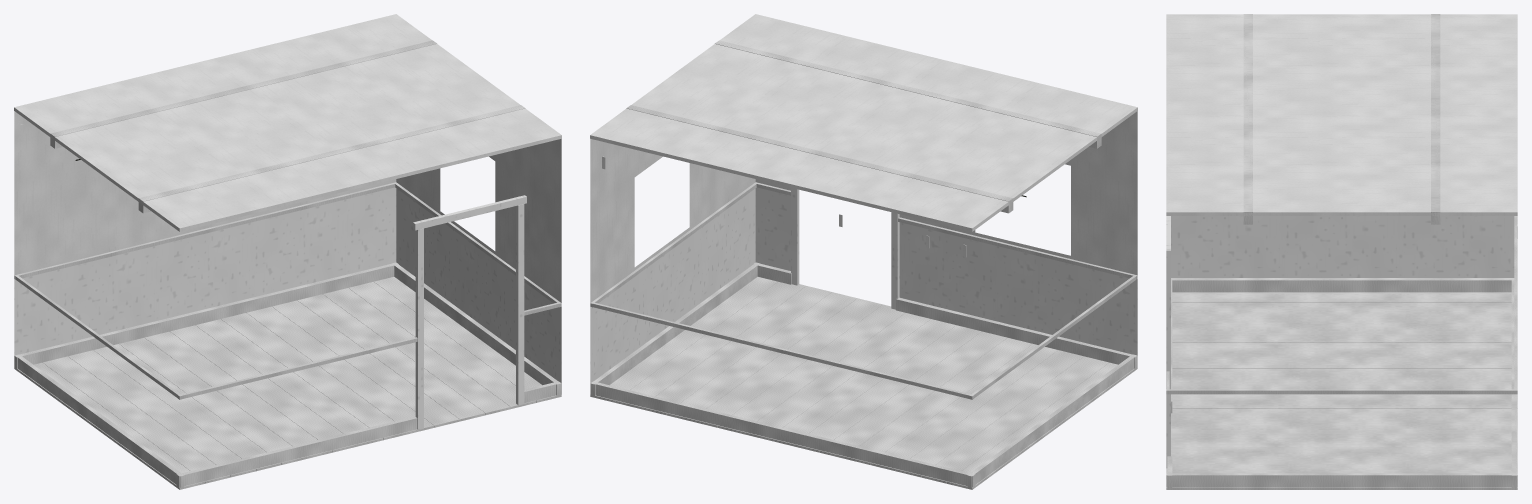
File: SM_FieldStation_Hut_Interior_LOD1.glb
The picture shows the model from 3 angles, left to right: view 1: azimuth 30°, elevation 25°; view 2: azimuth 150°, elevation 25°; view 3: azimuth 270°, elevation 25°; orthographic projection. The views are drawn at different scales.
Visible parts, largest first — view 1: SM_FieldStation_Hut_Interior_LOD1; view 2: SM_FieldStation_Hut_Interior_LOD1; view 3: SM_FieldStation_Hut_Interior_LOD1.
Part boxes in pixels (bbox=[...]): SM_FieldStation_Hut_Interior_LOD1: bbox=[14, 14, 561, 489]; SM_FieldStation_Hut_Interior_LOD1: bbox=[590, 14, 1137, 489]; SM_FieldStation_Hut_Interior_LOD1: bbox=[1166, 14, 1517, 489].
Size of the model in its own units: 4 by 2.62 by 3.
10 materials, 8 textured.
